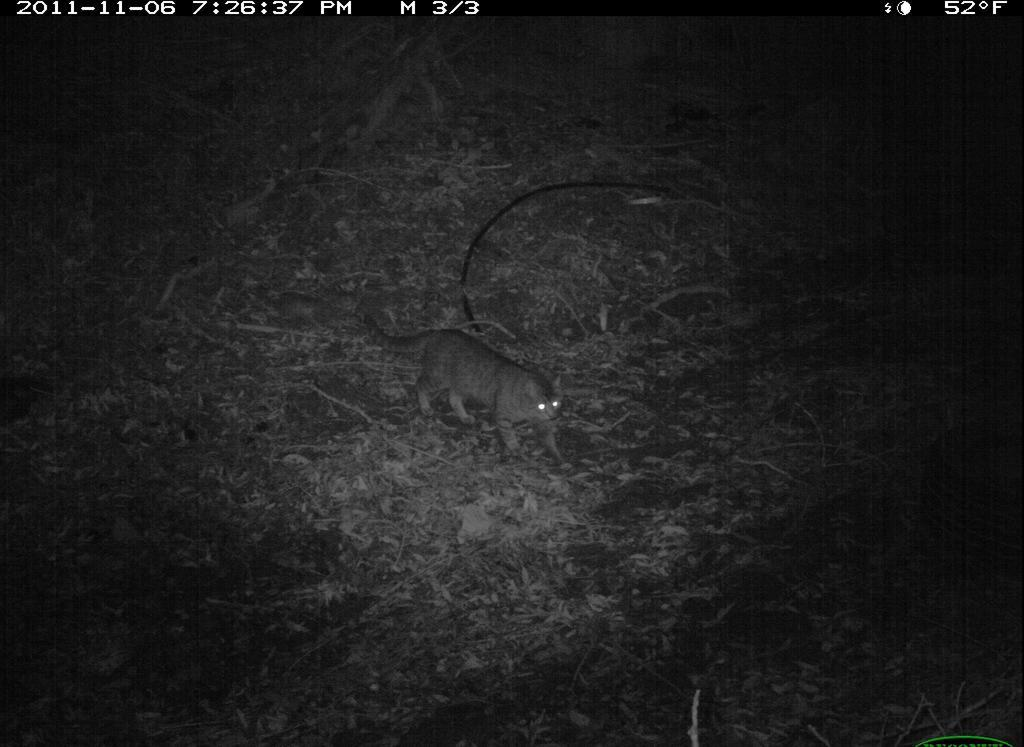cat: (351, 306, 579, 478)
